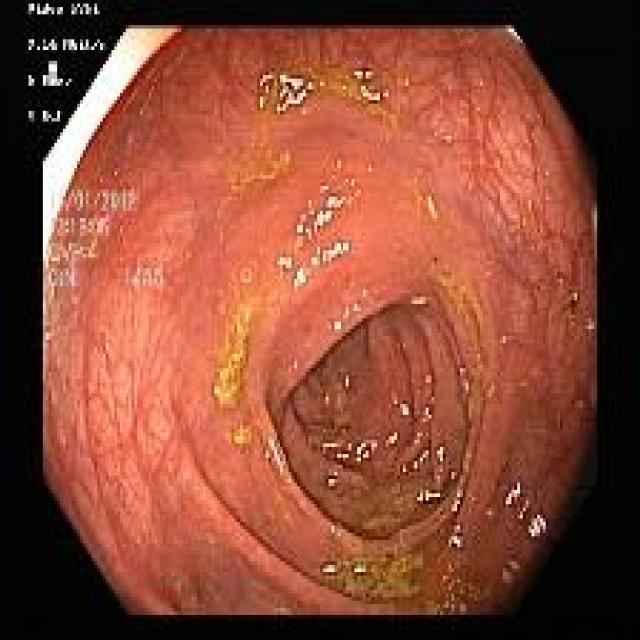ulcerative-colitis: (45, 30, 596, 613)
